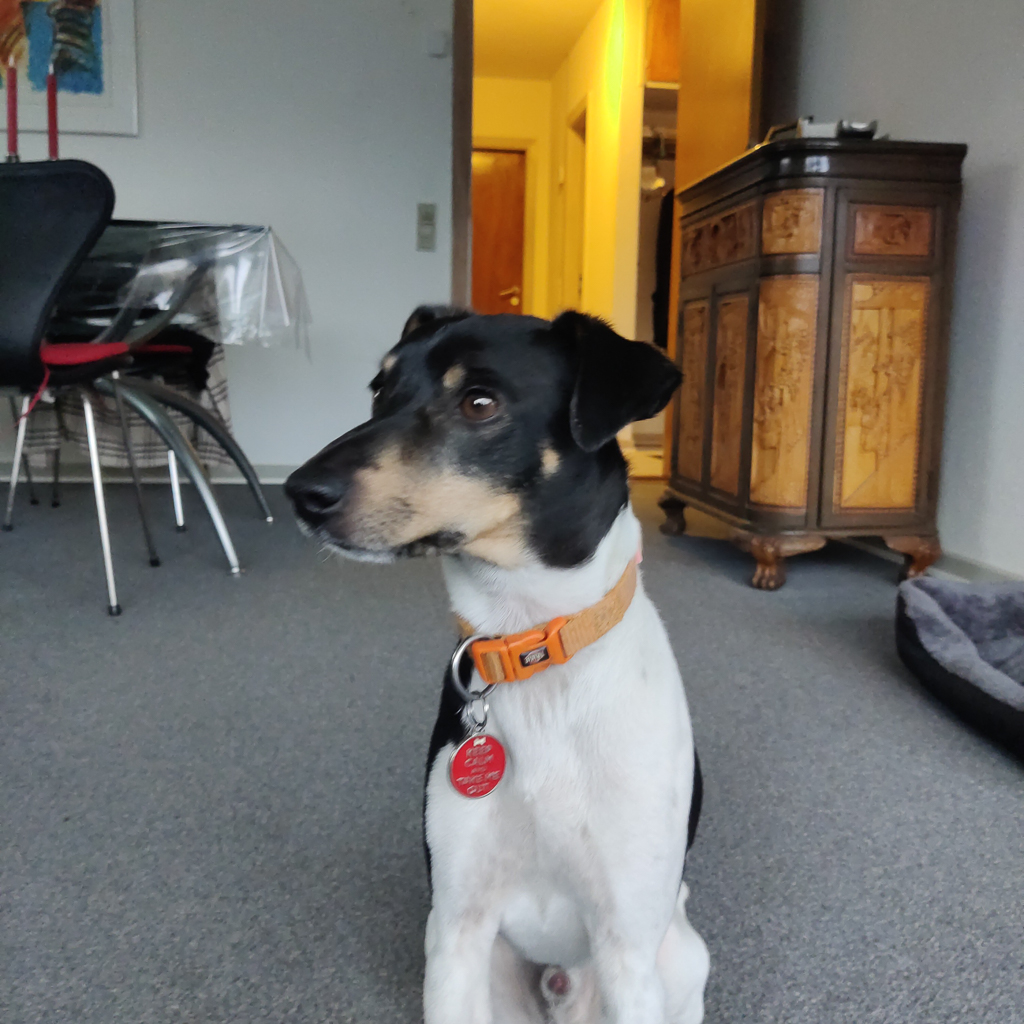Dog: (235, 268, 770, 1024)
